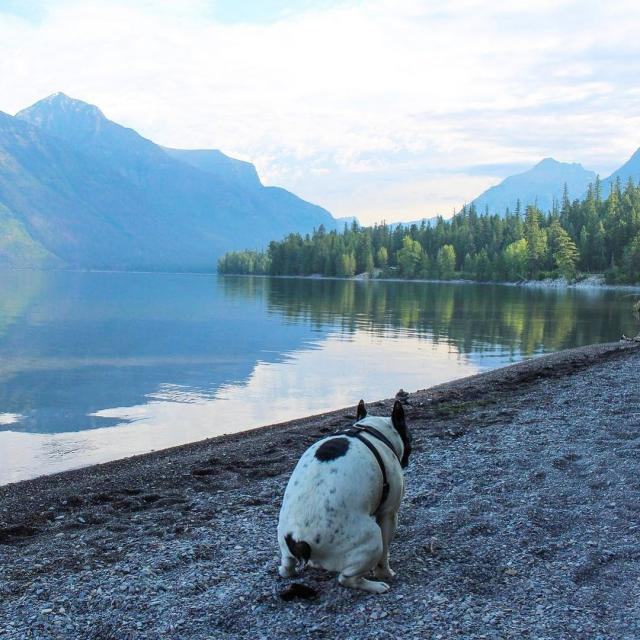squatting: (274, 394, 426, 606)
